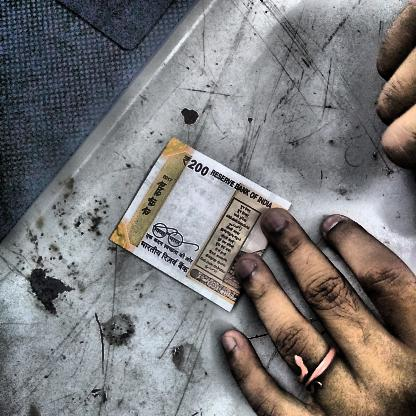Rs200: (177, 151, 213, 182)
